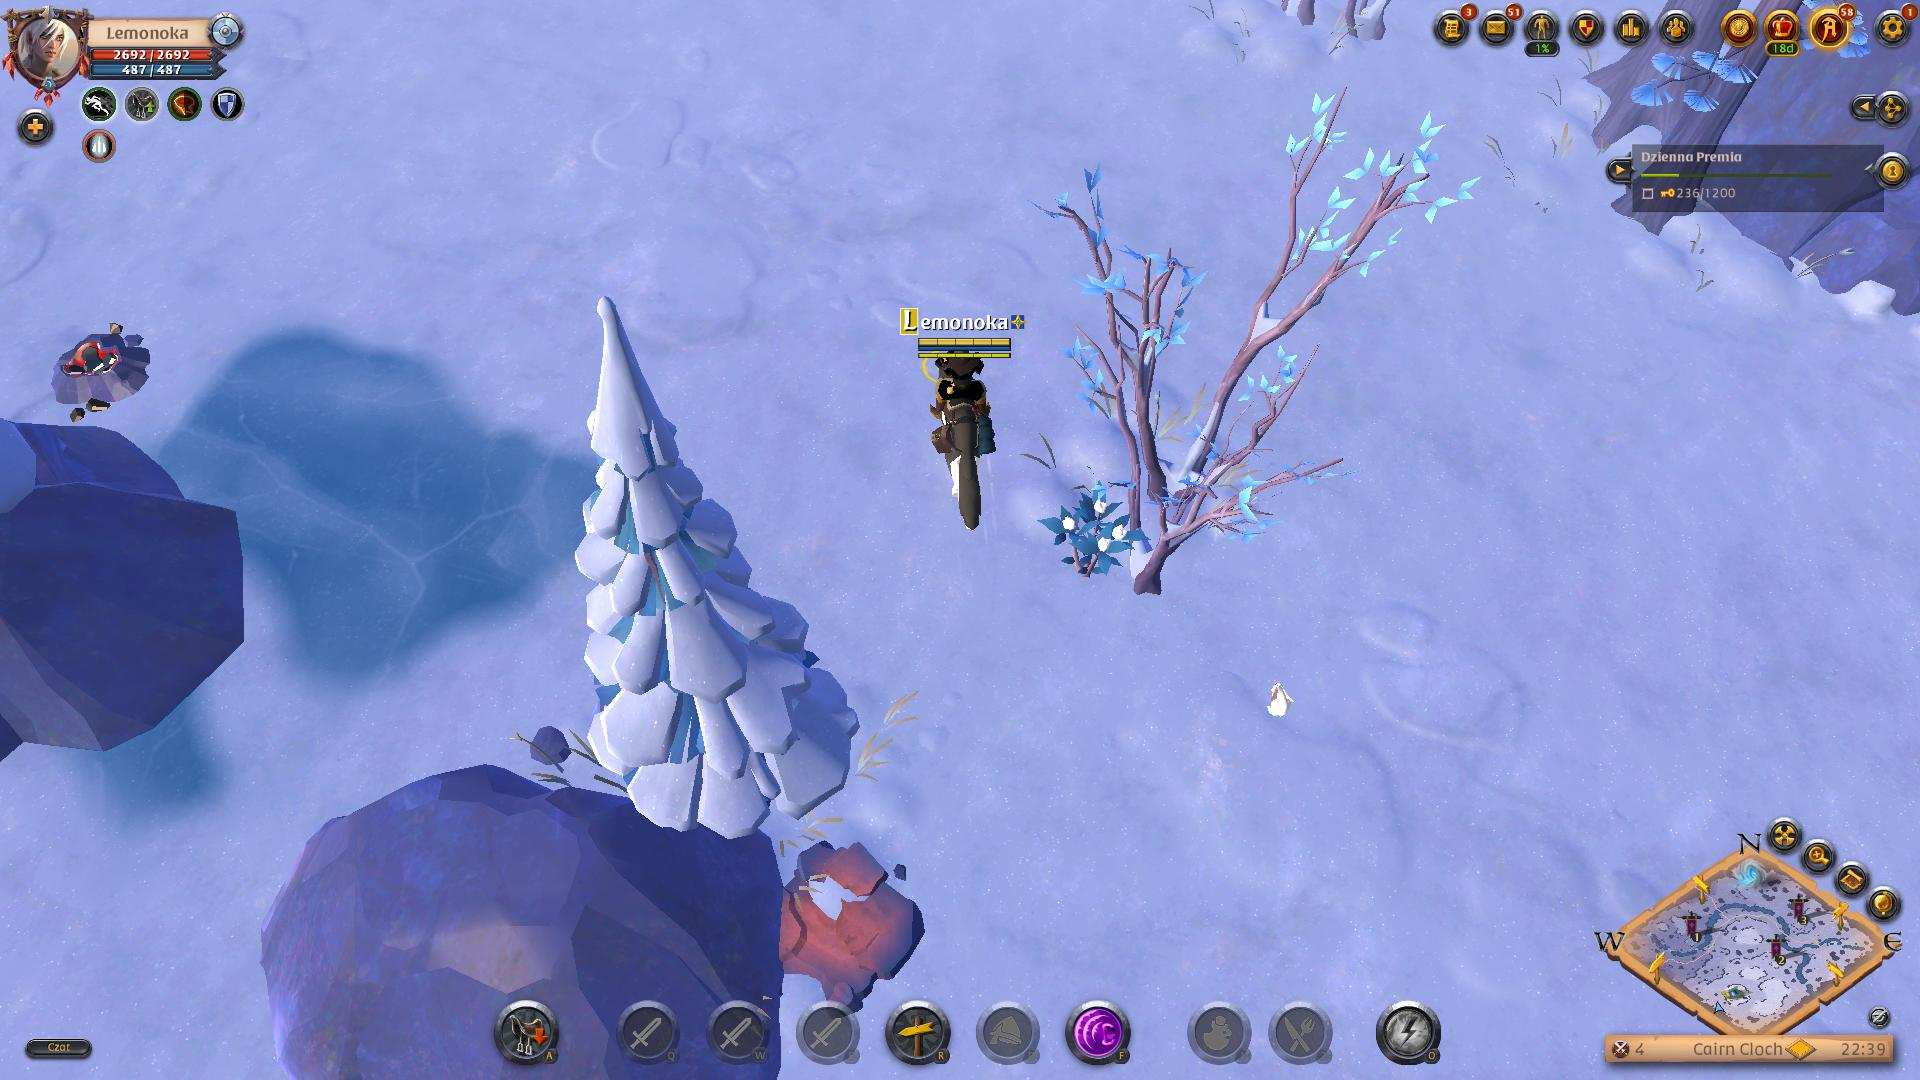fiber tier 4: (1056, 496, 1151, 599)
